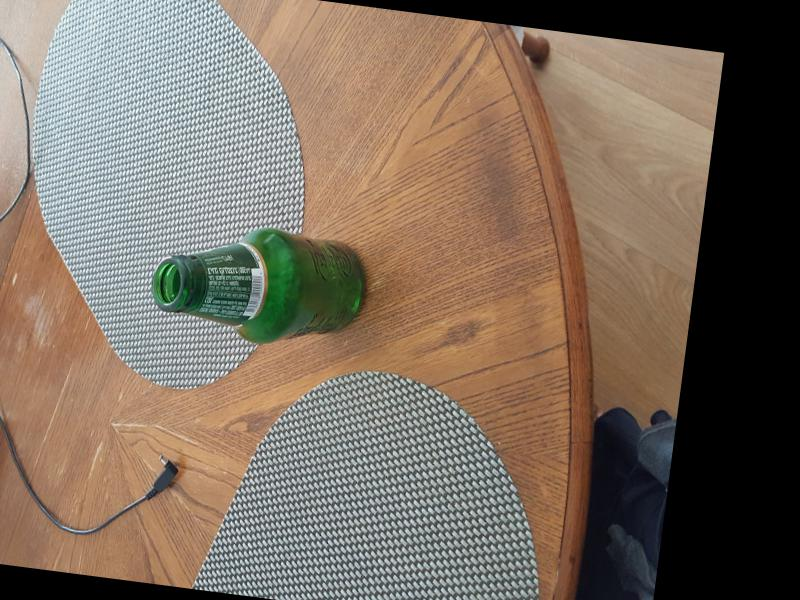Beer: (145, 214, 372, 352)
